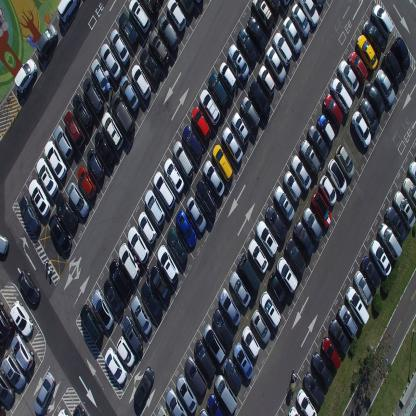car: (112, 92, 136, 137), (33, 370, 55, 416), (80, 302, 104, 344), (202, 322, 226, 364), (184, 354, 208, 396), (10, 332, 35, 372), (1, 351, 26, 391), (345, 285, 369, 326), (384, 204, 408, 245), (392, 189, 416, 230), (132, 364, 154, 408), (92, 287, 115, 329), (108, 258, 131, 300), (55, 191, 79, 231), (378, 222, 402, 262), (16, 268, 41, 306), (101, 110, 124, 151), (153, 170, 176, 211), (194, 179, 217, 220), (104, 345, 127, 386), (13, 57, 38, 94), (202, 158, 224, 200), (36, 156, 58, 198), (218, 286, 241, 326), (238, 254, 261, 294), (329, 76, 353, 114), (157, 243, 179, 284), (130, 293, 152, 334), (141, 279, 163, 320), (194, 337, 216, 378), (44, 139, 66, 180), (18, 195, 40, 236), (99, 41, 122, 80), (48, 213, 71, 252), (214, 374, 237, 413), (118, 241, 140, 281), (103, 276, 125, 316), (256, 219, 278, 259), (63, 109, 85, 149), (127, 224, 149, 264), (122, 313, 144, 353), (28, 177, 50, 217), (248, 79, 270, 119), (265, 204, 288, 242), (66, 181, 90, 217), (10, 300, 34, 336), (310, 352, 334, 388), (175, 208, 197, 247), (221, 125, 243, 164), (176, 374, 198, 413), (198, 88, 221, 125), (370, 3, 393, 40), (212, 144, 233, 184), (172, 140, 193, 180), (212, 308, 233, 348), (233, 340, 254, 380), (150, 263, 172, 301), (229, 270, 251, 308), (72, 92, 94, 130), (227, 42, 249, 80), (370, 238, 392, 276), (356, 33, 378, 71), (265, 45, 286, 84), (300, 138, 321, 177), (362, 19, 386, 53), (276, 256, 298, 293), (35, 22, 57, 59), (148, 30, 170, 67), (303, 369, 325, 406), (286, 237, 306, 277), (294, 219, 314, 259), (167, 227, 188, 265), (94, 130, 115, 168), (83, 75, 104, 113), (119, 74, 140, 112), (144, 189, 165, 227), (260, 290, 281, 328), (158, 14, 179, 52), (109, 28, 130, 66), (236, 27, 257, 65), (311, 190, 332, 228), (326, 157, 347, 195), (207, 72, 229, 108), (164, 156, 184, 195), (282, 15, 302, 54), (182, 124, 203, 161), (185, 197, 206, 234), (190, 105, 211, 142), (250, 308, 271, 345), (246, 15, 267, 52), (329, 317, 350, 354), (274, 185, 295, 222), (139, 48, 161, 83), (54, 122, 74, 160), (375, 68, 395, 106), (352, 110, 372, 148), (290, 154, 311, 190), (128, 0, 150, 34), (308, 124, 328, 161), (383, 49, 403, 86), (118, 12, 139, 47), (239, 95, 260, 130), (337, 303, 358, 338), (302, 206, 323, 241), (250, 0, 275, 29), (248, 238, 268, 274), (78, 164, 98, 200), (91, 57, 111, 93), (268, 272, 288, 308), (131, 63, 151, 99), (290, 3, 310, 39), (335, 144, 355, 180), (323, 93, 343, 129), (364, 80, 384, 116), (338, 60, 359, 94), (137, 210, 157, 245), (272, 31, 292, 66), (321, 335, 341, 370), (353, 270, 373, 305), (115, 334, 136, 367), (166, 0, 187, 33), (360, 96, 378, 134), (361, 255, 381, 289), (348, 50, 368, 84), (392, 35, 410, 72), (231, 111, 250, 146), (87, 146, 105, 182), (241, 325, 260, 359), (299, 0, 321, 29), (282, 170, 301, 203), (0, 368, 16, 407), (224, 358, 242, 391), (166, 388, 188, 415), (296, 388, 318, 415), (319, 174, 337, 207), (318, 113, 336, 145), (218, 61, 236, 92), (56, 0, 80, 23), (0, 299, 14, 337), (258, 65, 274, 97), (402, 176, 416, 212), (206, 393, 226, 415), (177, 0, 195, 16), (140, 0, 158, 16), (265, 0, 282, 15), (0, 231, 9, 255), (408, 160, 416, 186), (72, 404, 87, 415), (312, 0, 327, 10), (0, 332, 6, 352), (156, 405, 168, 415), (288, 405, 300, 415), (56, 408, 68, 416), (0, 402, 6, 416), (198, 408, 210, 415), (281, 0, 293, 6)
